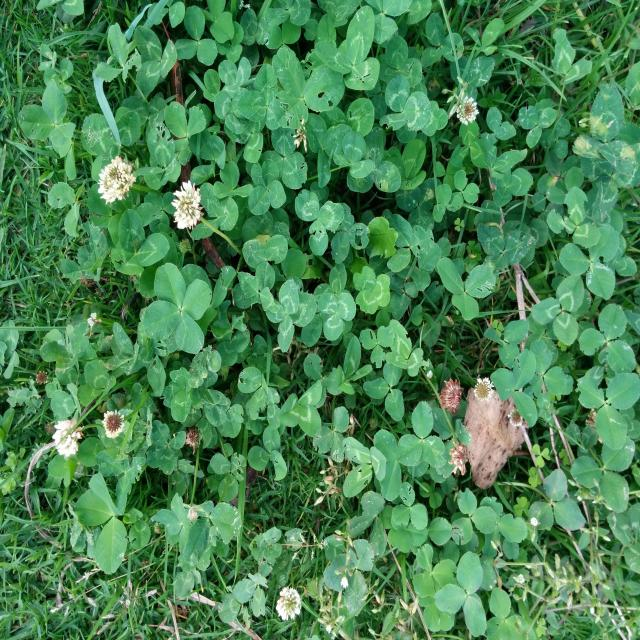Four Leaf Clover: (142, 262, 210, 354)
